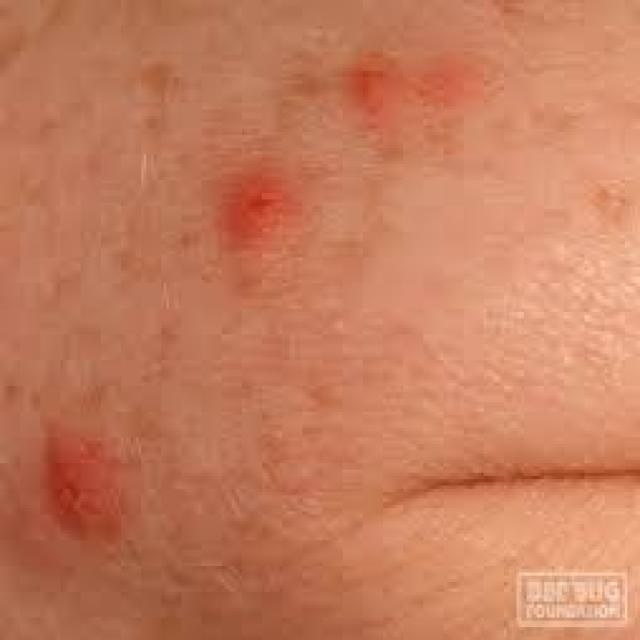kan emici bocekler: (34, 438, 157, 549), (229, 171, 304, 251)
